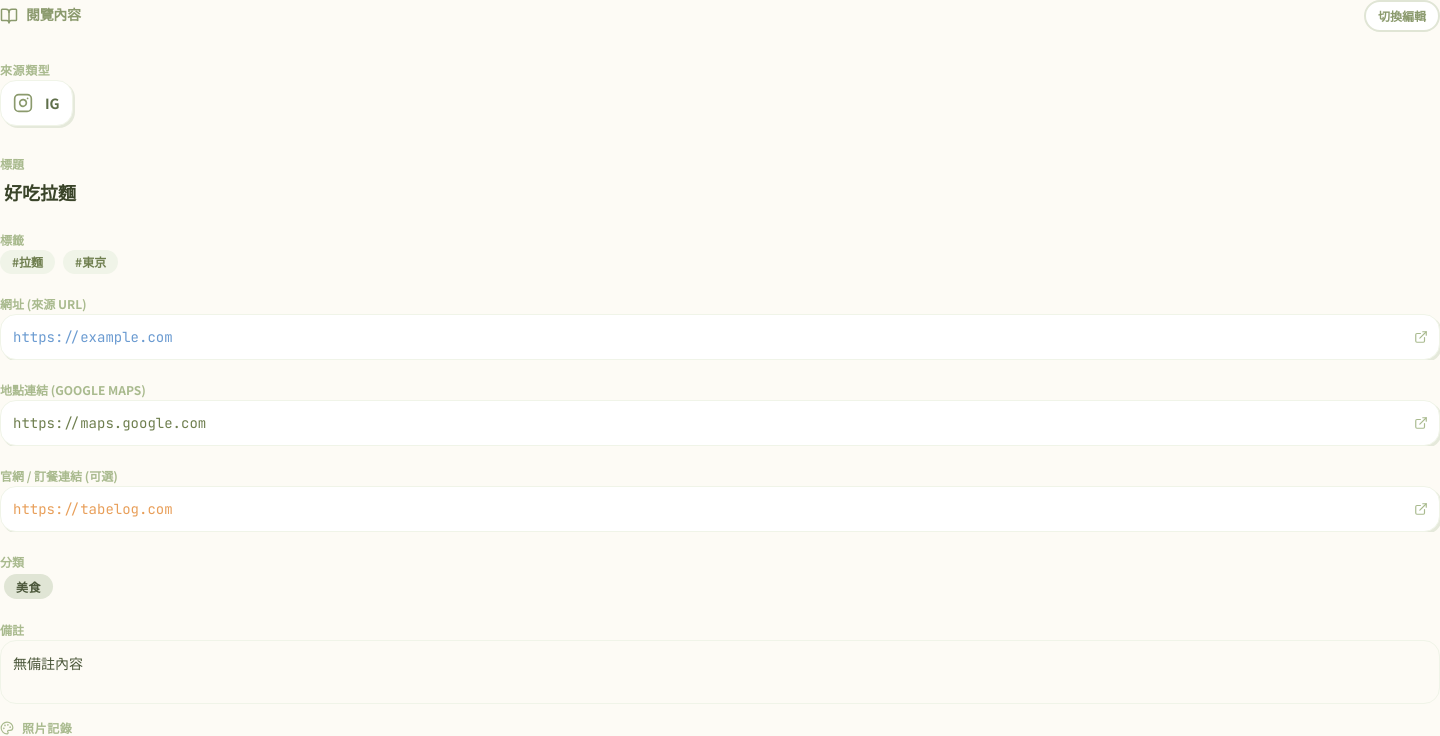
Test: CollectionForm.vue › 應正確渲染編輯模式並填入資料
Click the button "切換編輯": (1402, 16) top-left (1364, 0), bottom-right (1439, 32)
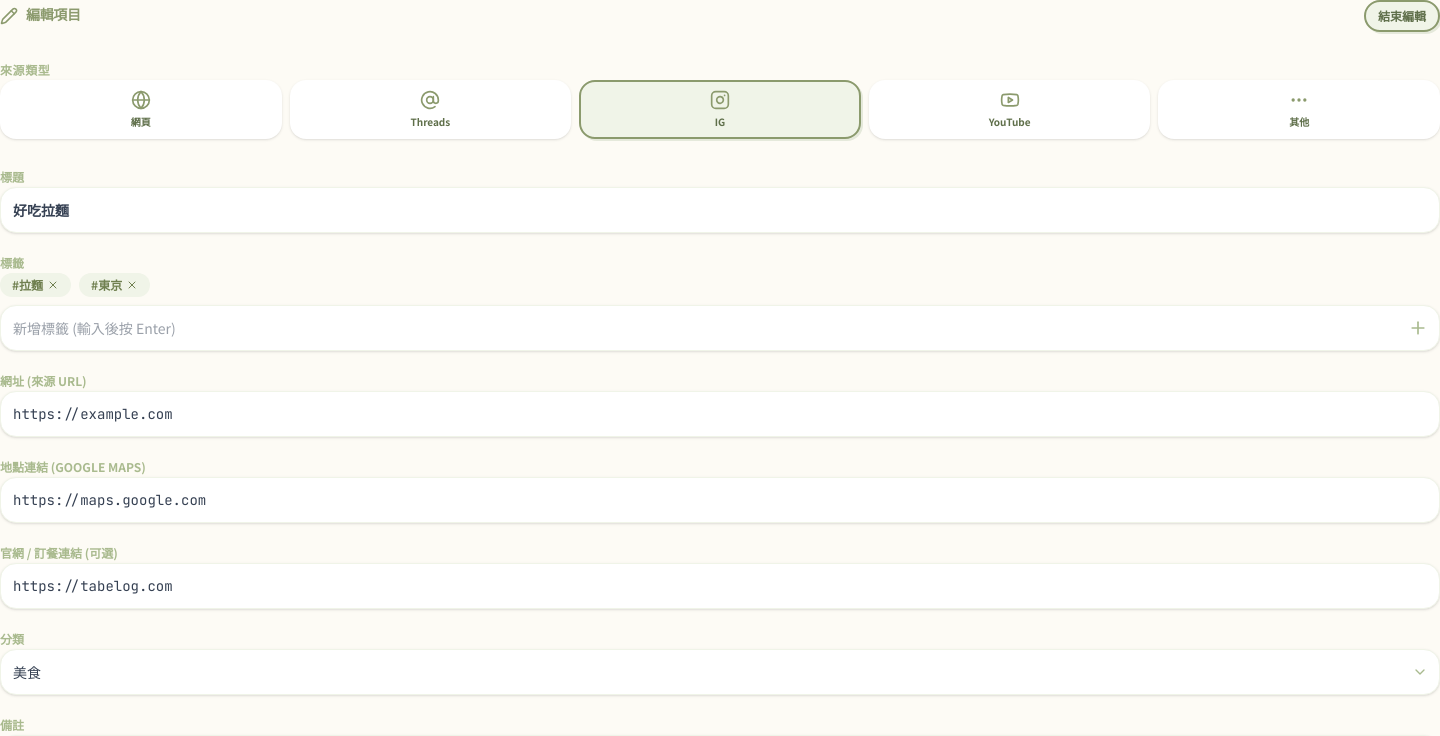
Check: the field below "標題" holds "好吃拉麵", box top-left (0, 187), bottom-right (1439, 233)
Check: the field below "網址 (來源 URL)" holds "https://example.com", box top-left (0, 391), bottom-right (1439, 437)
Check: the field below "地點連結 (Google Maps)" holds "https://maps.google.com", box top-left (0, 477), bottom-right (1439, 523)
